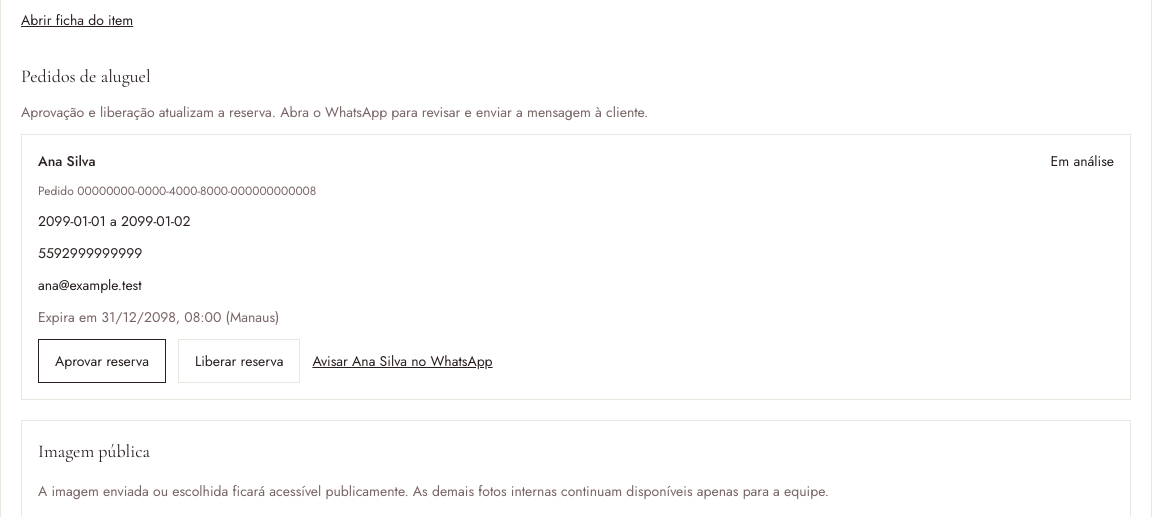
Test: Paixão Clutch admin curation › preserves pending state and offers retry when a decision fails
(page scrolled)
Click the button "Aprovar reserva": (102, 360) left=38, top=338, right=166, bottom=382
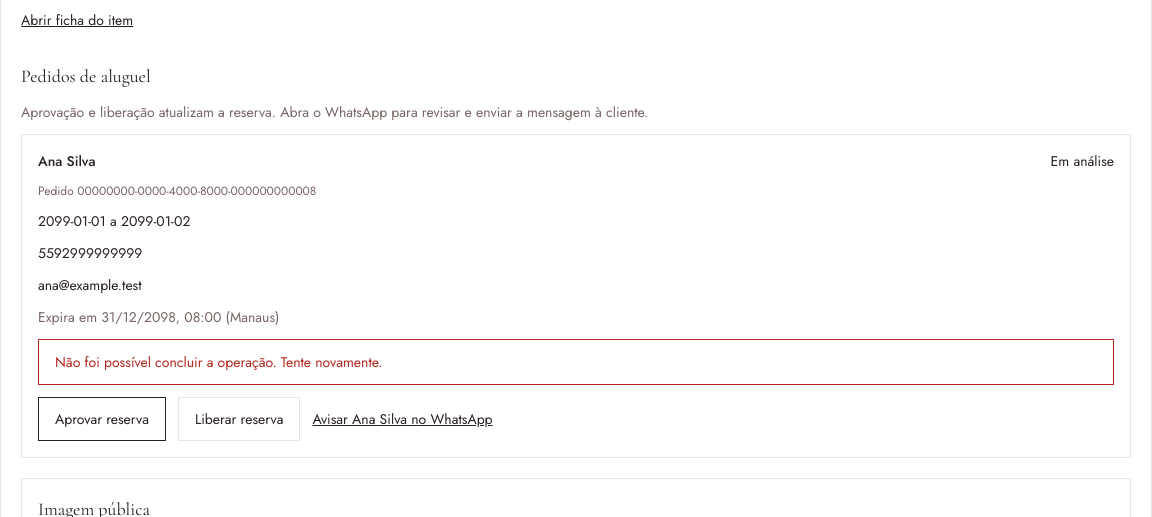
Expected: the button "Aprovar reserva" is enabled, left=38, top=396, right=166, bottom=440
Expected: the message reads "Não foi possível concluir a operação. Tente novamente.", left=55, top=352, right=382, bottom=372
